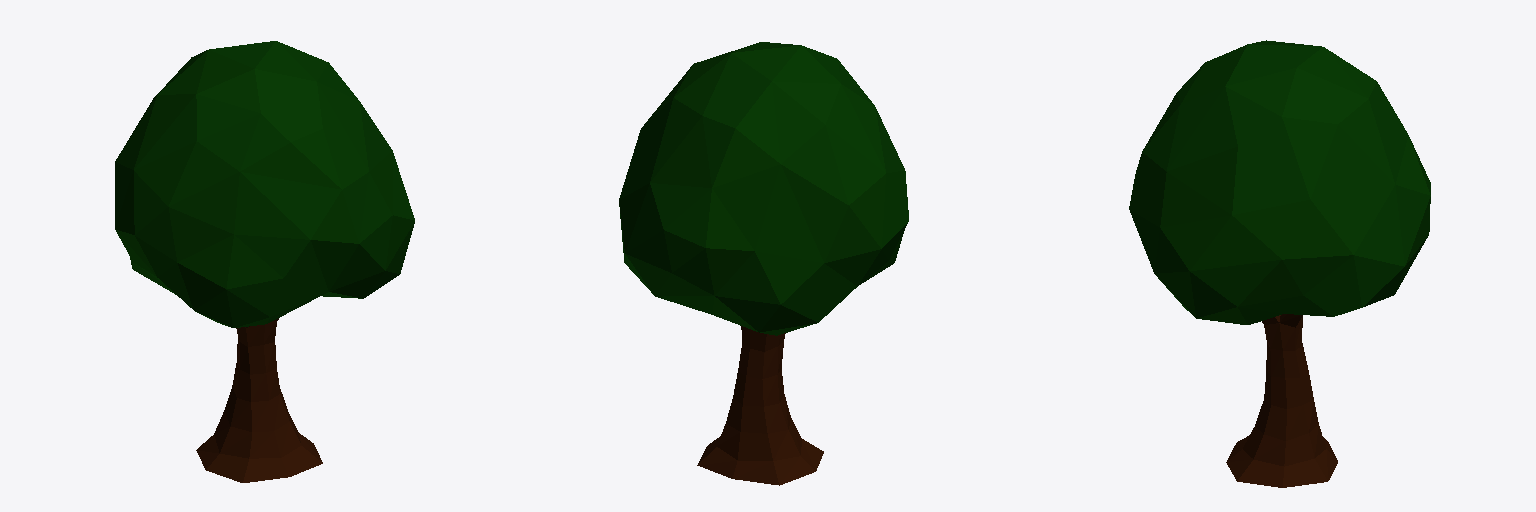
Rendered from small-tree.obj.
3 views of the same model, side by side, from view 1: azimuth 30°, elevation 25°; view 2: azimuth 150°, elevation 25°; view 3: azimuth 270°, elevation 25° (orthographic).
Visible parts, largest first — view 1: LowPoly_Tree_01_Plane_Plane.000; view 2: LowPoly_Tree_01_Plane_Plane.000; view 3: LowPoly_Tree_01_Plane_Plane.000.
Boxes of the visible parts, <box> form: LowPoly_Tree_01_Plane_Plane.000: <box>115,41,414,482</box>; LowPoly_Tree_01_Plane_Plane.000: <box>619,42,908,485</box>; LowPoly_Tree_01_Plane_Plane.000: <box>1129,40,1430,487</box>.
Bounding box in the file's own units: 1.35 × 2 × 1.34.